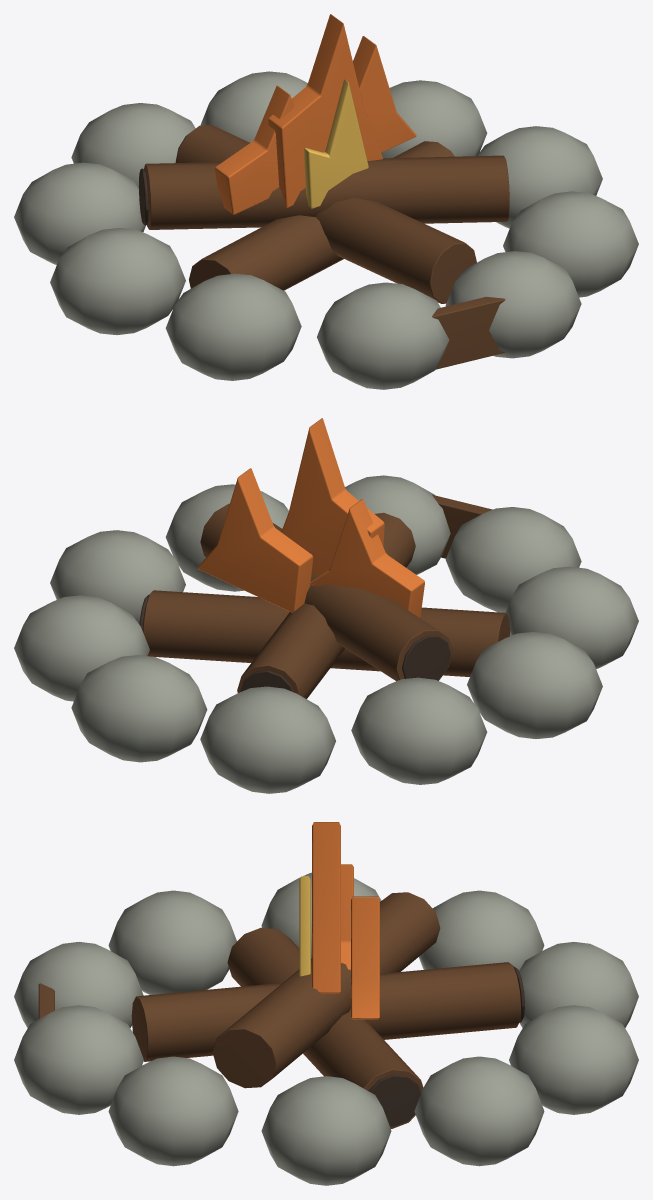
The model's file is S072_campfire_circle_rebuilt.glb.
3 renders of one model, top to bottom at view 1: azimuth 30°, elevation 25°; view 2: azimuth 150°, elevation 25°; view 3: azimuth 270°, elevation 25°, orthographic.
Visible parts, largest first — view 1: Weathered_light_stone, Oak_end_and_edge.001, Painted_scenic_orange_flame, Painted_scenic_yellow_flame; view 2: Weathered_light_stone, Oak_end_and_edge.001, Painted_scenic_orange_flame, Charred_log_ends; view 3: Weathered_light_stone, Oak_end_and_edge.001, Painted_scenic_orange_flame, Charred_log_ends, Painted_scenic_yellow_flame.
Part boxes in pixels (x1,y1,x2,y2): Weathered_light_stone: (14, 71, 638, 389); Oak_end_and_edge.001: (144, 124, 509, 369); Painted_scenic_orange_flame: (215, 14, 416, 214); Painted_scenic_yellow_flame: (304, 79, 368, 208); Weathered_light_stone: (14, 475, 638, 793); Oak_end_and_edge.001: (143, 494, 509, 698); Painted_scenic_orange_flame: (197, 418, 424, 617); Charred_log_ends: (139, 595, 450, 691); Weathered_light_stone: (14, 872, 638, 1185); Oak_end_and_edge.001: (38, 892, 521, 1128); Painted_scenic_orange_flame: (312, 822, 379, 1019); Charred_log_ends: (368, 966, 524, 1126); Painted_scenic_yellow_flame: (299, 876, 310, 976).
Size of the model in its own units: 1.76 by 0.8 by 1.76.
